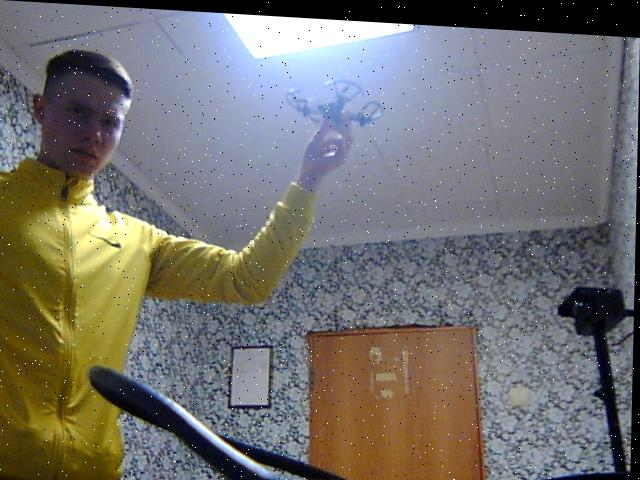drone: (279, 66, 391, 131)
